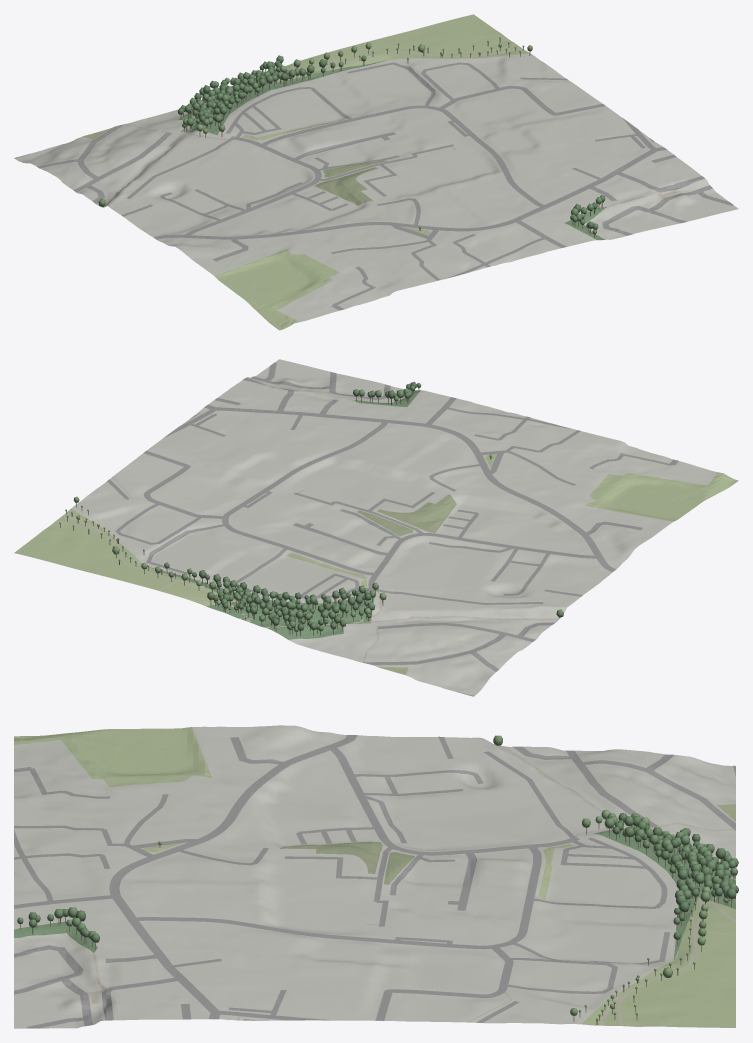
3 renders of one model, top to bottom at view 1: azimuth 30°, elevation 25°; view 2: azimuth 150°, elevation 25°; view 3: azimuth 270°, elevation 25°, orthographic. The views are drawn at different scales.
Visible parts, largest first — view 1: t15_11_terrain, t15_11_roads_minor, way/963239143@t15_11, way/15500128@t15_11, relation/9340579@t15_11_canopy, relation/9340579@t15_11, t15_11_roads_path, t15_11_trees_mapped, way/1197677916@t15_11, way/1574832179@t15_11_canopy; view 2: t15_11_terrain, t15_11_roads_minor, way/963239143@t15_11, way/15500128@t15_11, relation/9340579@t15_11_canopy, relation/9340579@t15_11, t15_11_roads_path, way/1197677916@t15_11, t15_11_trees_mapped, way/1574832179@t15_11_canopy; view 3: t15_11_terrain, t15_11_roads_minor, way/963239143@t15_11, way/15500128@t15_11, relation/9340579@t15_11_canopy, relation/9340579@t15_11, t15_11_trees_mapped, t15_11_roads_path, way/1197677916@t15_11, way/1574832179@t15_11_canopy, way/1574832179@t15_11, way/1197677917@t15_11.
Part boxes in pixels (left/top/right/bottom): t15_11_terrain: left=15, top=53, right=738, bottom=329; t15_11_roads_minor: left=14, top=62, right=733, bottom=310; way/963239143@t15_11: left=277, top=14, right=529, bottom=82; way/15500128@t15_11: left=214, top=248, right=339, bottom=330; relation/9340579@t15_11_canopy: left=177, top=55, right=366, bottom=132; relation/9340579@t15_11: left=178, top=60, right=386, bottom=135; t15_11_roads_path: left=100, top=43, right=677, bottom=207; t15_11_trees_mapped: left=98, top=37, right=532, bottom=230; way/1197677916@t15_11: left=314, top=167, right=377, bottom=205; way/1574832179@t15_11_canopy: left=570, top=195, right=605, bottom=237; t15_11_terrain: left=71, top=359, right=718, bottom=696; t15_11_roads_minor: left=107, top=362, right=678, bottom=696; way/963239143@t15_11: left=14, top=509, right=237, bottom=605; way/15500128@t15_11: left=584, top=472, right=738, bottom=521; relation/9340579@t15_11_canopy: left=164, top=562, right=375, bottom=636; relation/9340579@t15_11: left=149, top=567, right=374, bottom=639; t15_11_roads_path: left=55, top=385, right=559, bottom=662; way/1197677916@t15_11: left=377, top=494, right=456, bottom=532; t15_11_trees_mapped: left=59, top=455, right=563, bottom=625; way/1574832179@t15_11_canopy: left=353, top=381, right=421, bottom=404; t15_11_terrain: left=14, top=725, right=735, bottom=1028; t15_11_roads_minor: left=14, top=735, right=735, bottom=1028; way/963239143@t15_11: left=581, top=897, right=735, bottom=1027; way/15500128@t15_11: left=14, top=727, right=212, bottom=786; relation/9340579@t15_11_canopy: left=604, top=813, right=738, bottom=945; relation/9340579@t15_11: left=594, top=828, right=735, bottom=959; t15_11_trees_mapped: left=158, top=735, right=729, bottom=1024; t15_11_roads_path: left=86, top=746, right=735, bottom=1025; way/1197677916@t15_11: left=280, top=841, right=382, bottom=874; way/1574832179@t15_11_canopy: left=17, top=907, right=99, bottom=950; way/1574832179@t15_11: left=14, top=921, right=97, bottom=952; way/1197677917@t15_11: left=384, top=852, right=414, bottom=884.
Bounding box in the file's own units: 503 × 53 × 502.
